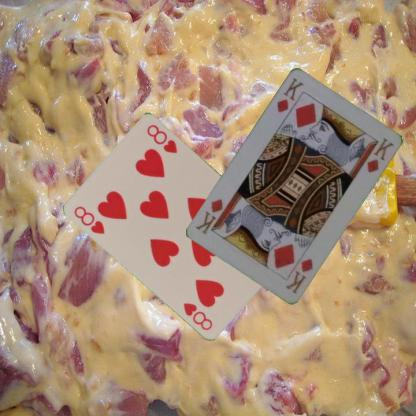8h: (72, 203, 106, 236)
Kd: (282, 254, 314, 295), (274, 75, 305, 115)
